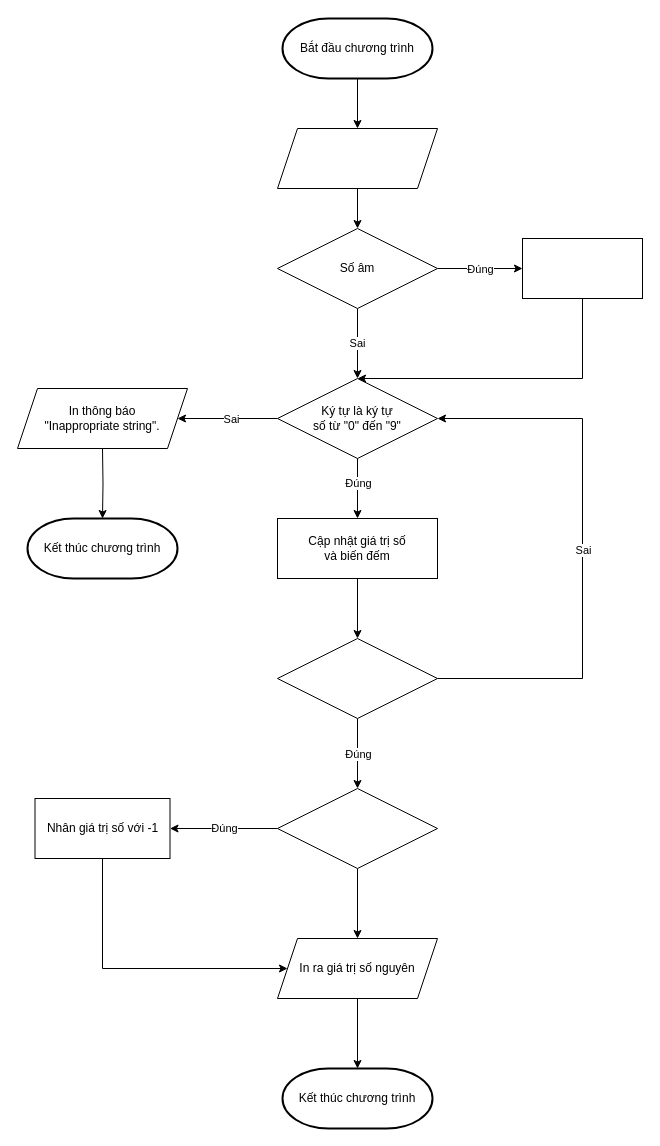
This 660x1146 diagram has some shape labels left out. The box of each missing label's shape, as (x1, y1, x2, y2) in pixels:
Duyệt hết xâu: (276, 638, 438, 718)
Kiểm tra số âm: (276, 788, 438, 868)
Nhập xâu chữ số: (276, 128, 438, 188)
Đánh dấu số âm: (522, 238, 642, 298)
